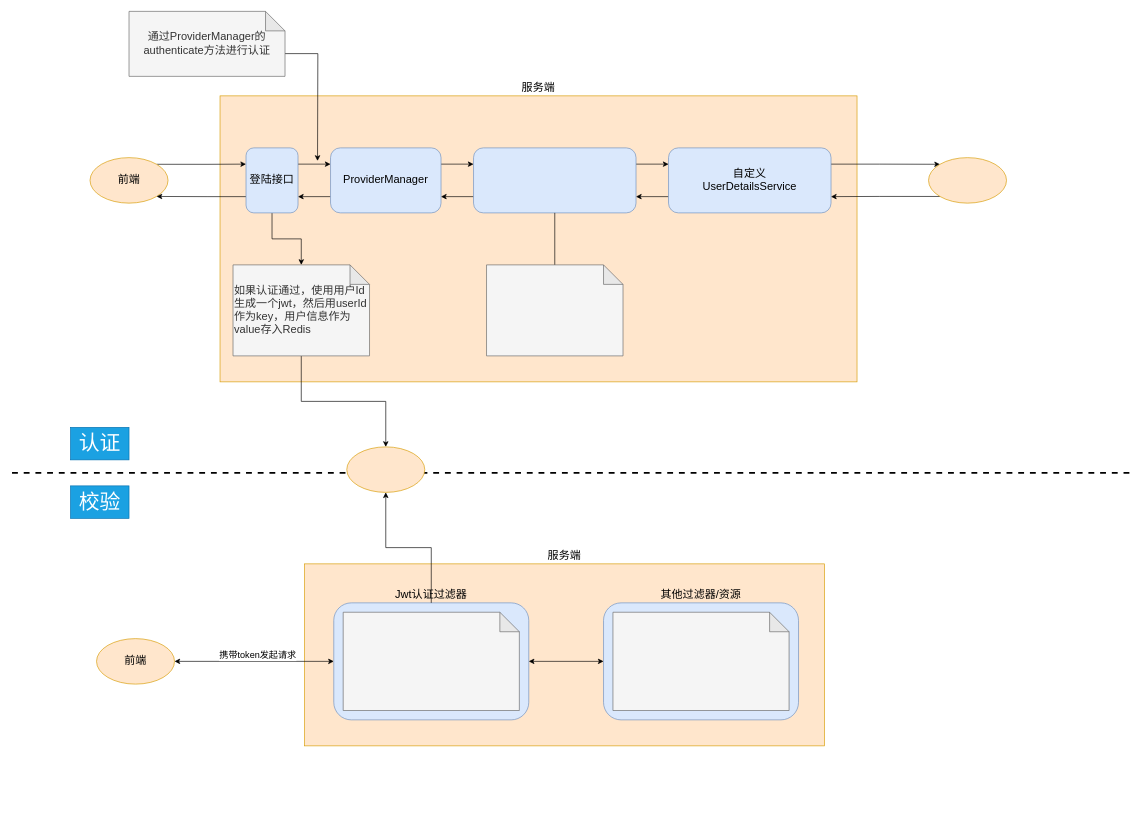
Image size: 1143x822. Some labels were removed from this diagram. Each missing label, with the centre of its shape:
"DaoAuthenticationProvider" goes at point (554, 180).
"Redis" goes at point (385, 469).
"从SecurityContextHolder中获取当前请求的用户信息" goes at point (700, 661).
"数据库" goes at point (967, 180).
"获取token 解析token 获取userId 封装Authentication对象，存入SecurityContextHolder" goes at point (431, 661).
"获取到UserDetailsService返回的信息后，通过PasswordEncoder进行密码校验" goes at point (554, 310).
